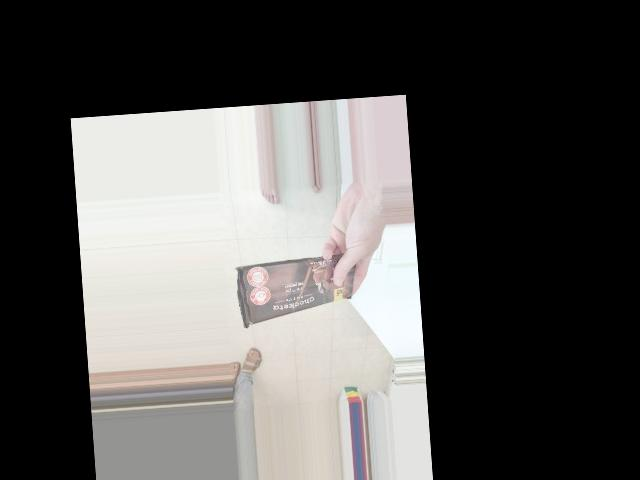chocolate: (231, 242, 357, 330)
